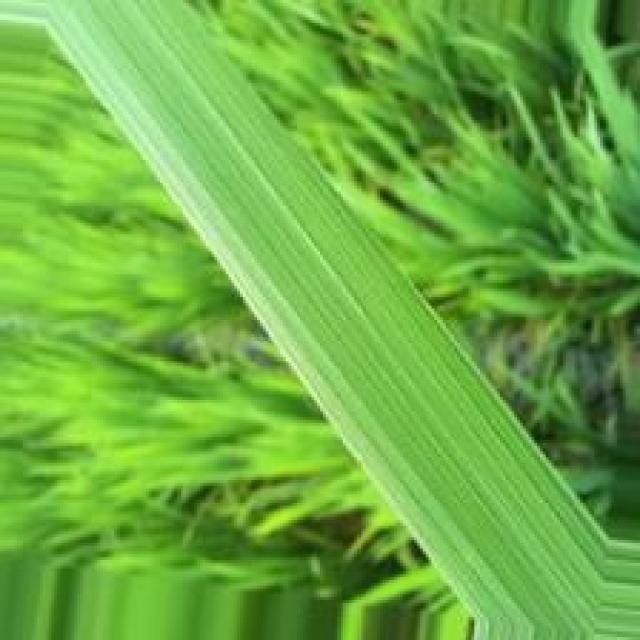HealthyLeaf: (29, 0, 635, 640)
